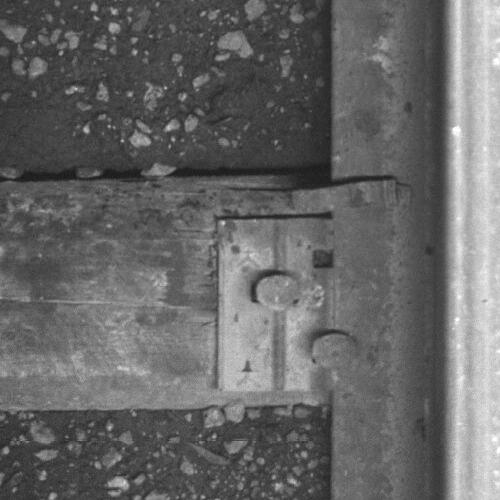crutch: (291, 176, 396, 213)
do: (217, 217, 360, 392)
hole_do: (301, 238, 345, 277)
rail: (445, 1, 500, 500)
tie_wood: (1, 171, 332, 410)
